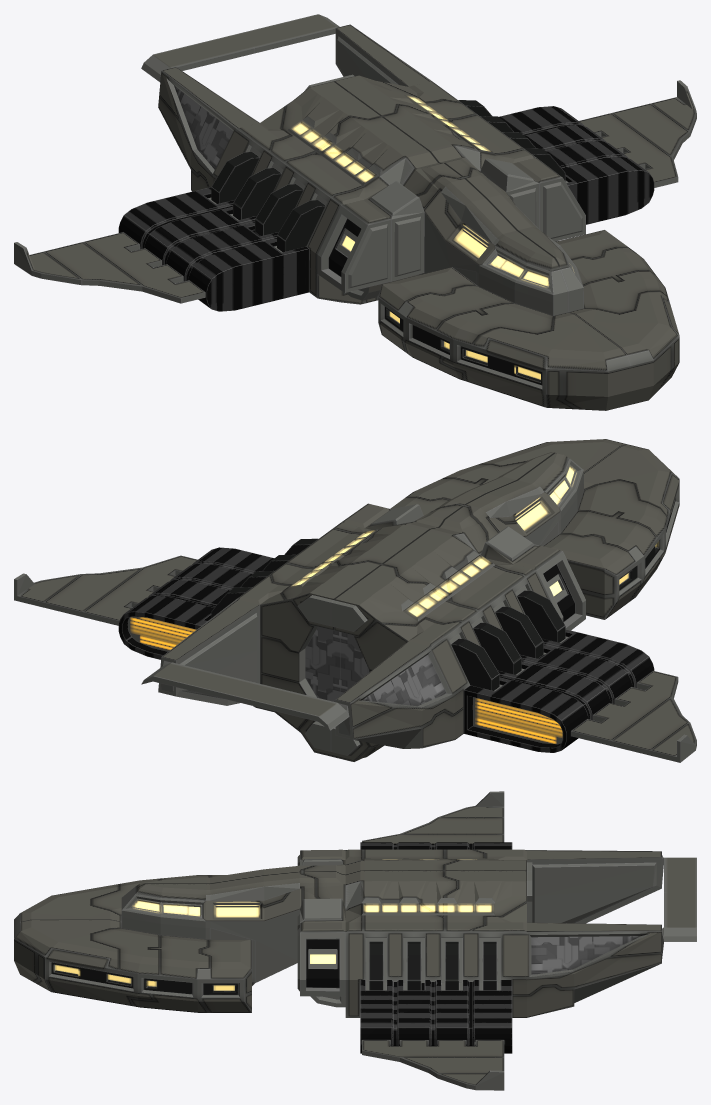
The picture shows the model from 3 angles, top to bottom: view 1: azimuth 30°, elevation 25°; view 2: azimuth 150°, elevation 25°; view 3: azimuth 270°, elevation 25°; orthographic projection. The views are drawn at different scales.
Parts seen in each view (by area): view 1: Cube; view 2: Cube; view 3: Cube.
Part boxes in pixels (x1,y1,x2,y2): Cube: [14, 14, 696, 410]; Cube: [14, 439, 696, 762]; Cube: [14, 791, 696, 1090].
Size of the model in its own units: 2765 by 657 by 2840.
Materials: 1 (1 with a texture image).
